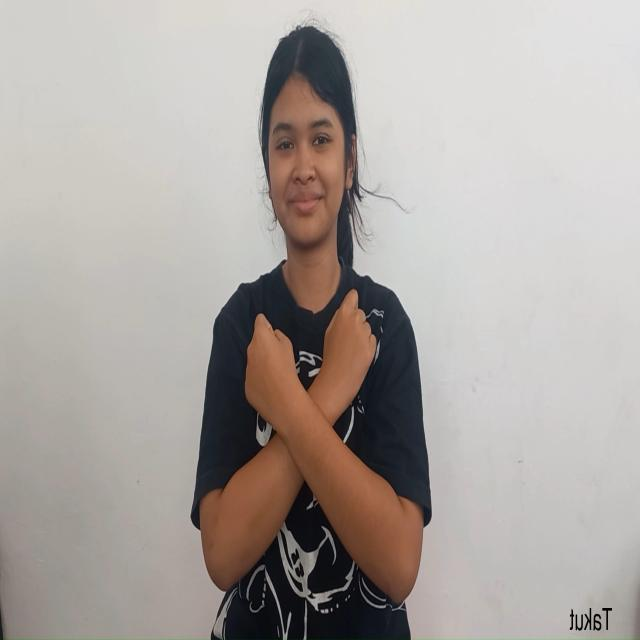Takut -BISINDO-: (238, 282, 376, 542)
